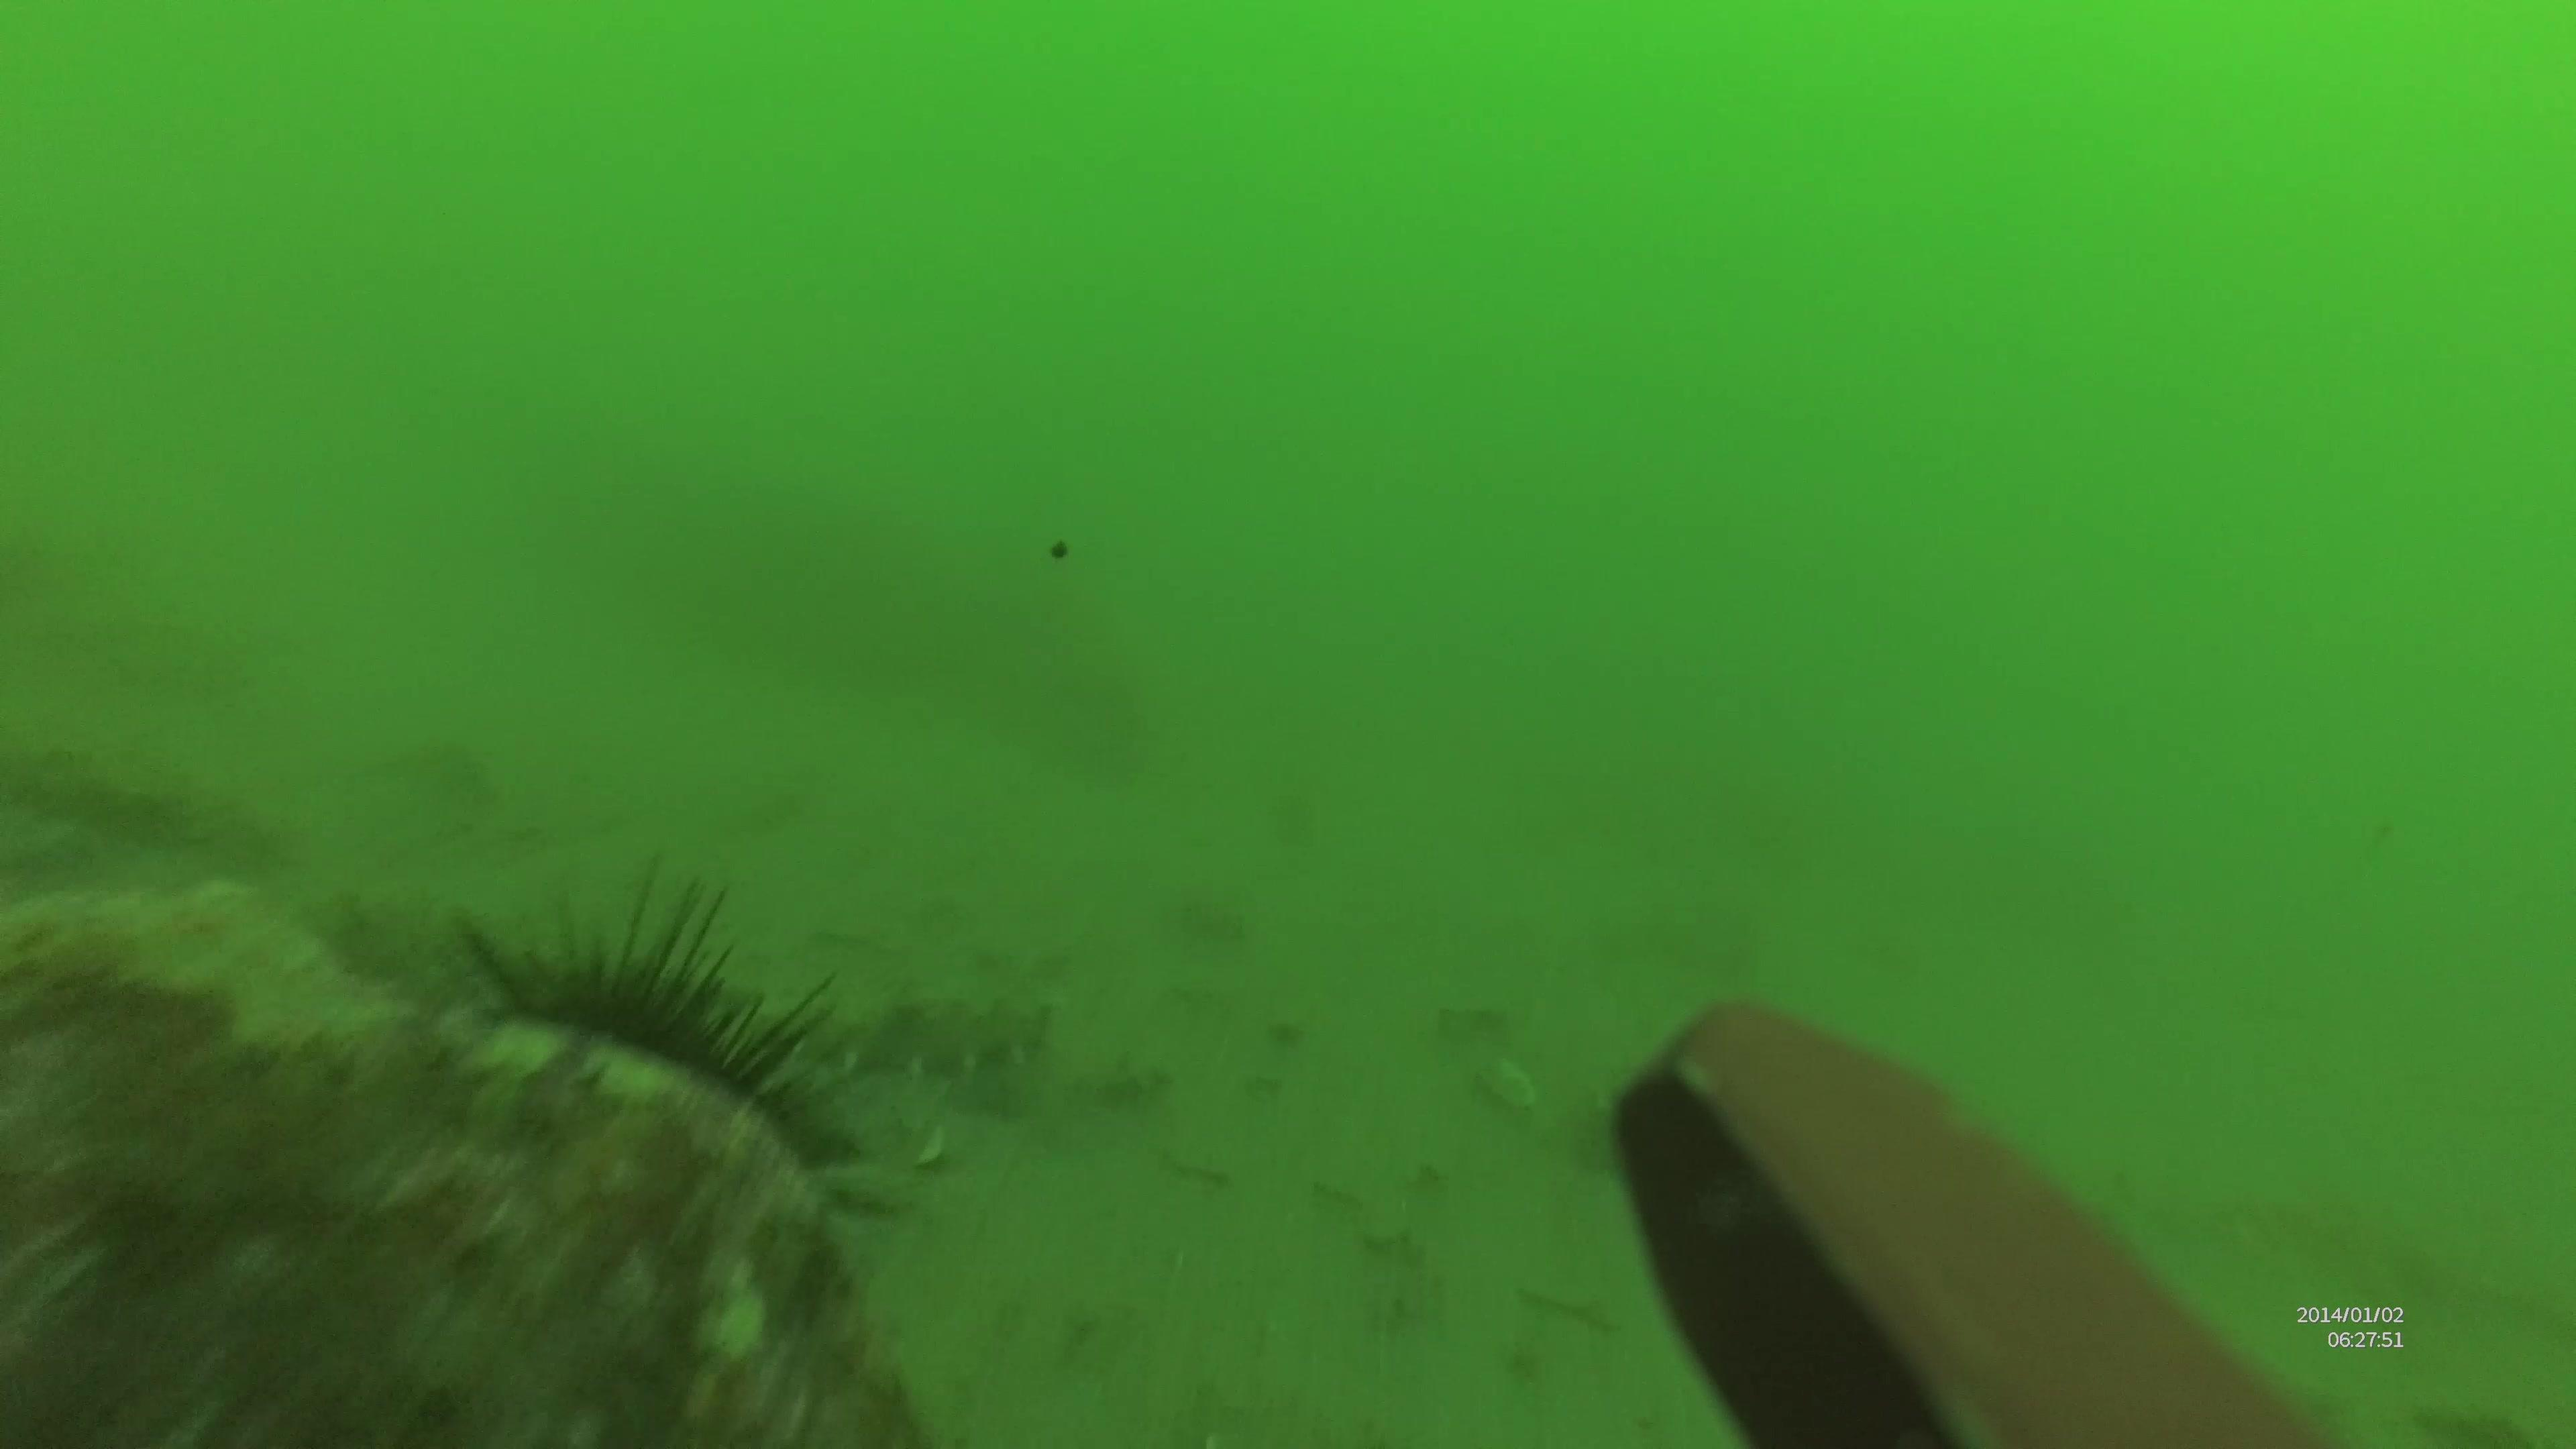echinus: (433, 860, 869, 1258)
holothurian: (717, 984, 1060, 1079)
